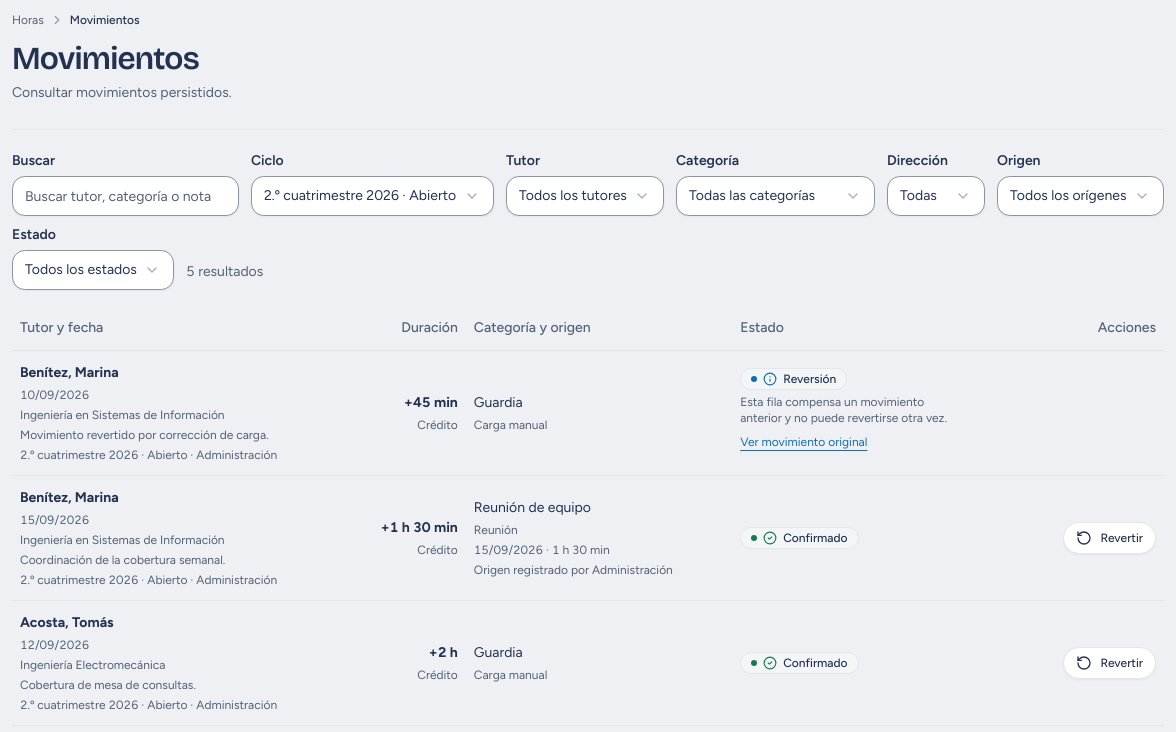
it: MovementHistoryScreen › replaces a relationship link with an explanation when filters hide the linked row
Select "Reversión" in the dropdown labelled "Estado" at (93, 270), box 12,250 -> 174,290
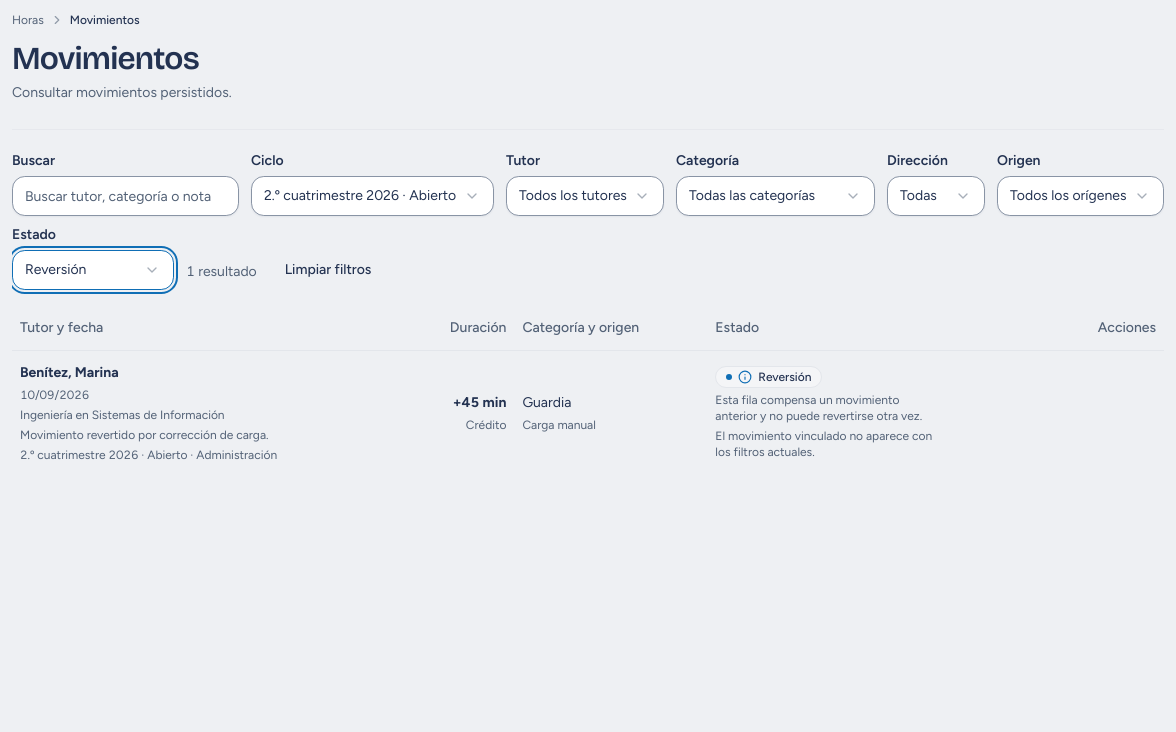
Check: the link "Ver movimiento original" is gone
